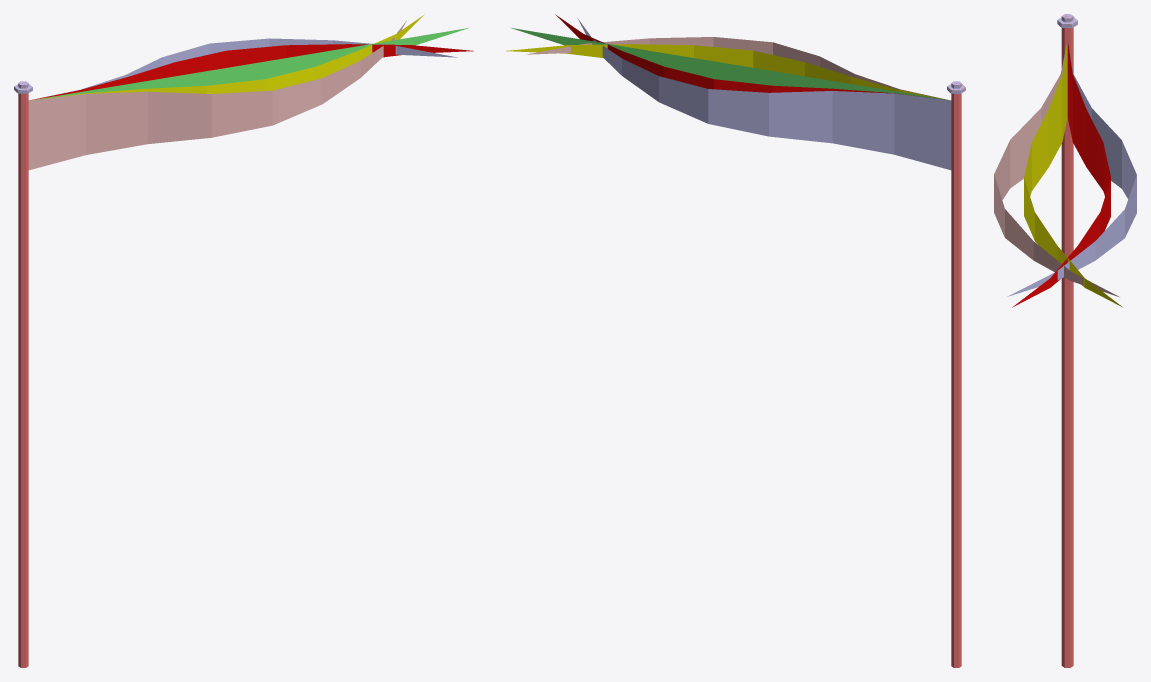
Rendered from Wimpel5.dae.
3 renders of one model, left to right at view 1: azimuth 30°, elevation 25°; view 2: azimuth 150°, elevation 25°; view 3: azimuth 270°, elevation 25°, orthographic. The views are drawn at different scales.
Visible parts, largest first — view 1: instance_1; view 2: instance_1; view 3: instance_1.
Boxes of the visible parts, x1,y1,x2,y2 form: instance_1: (14, 14, 473, 667); instance_1: (506, 14, 965, 667); instance_1: (994, 14, 1136, 667).
Size of the model in its own units: 5.31 by 1.3 by 6.51.
